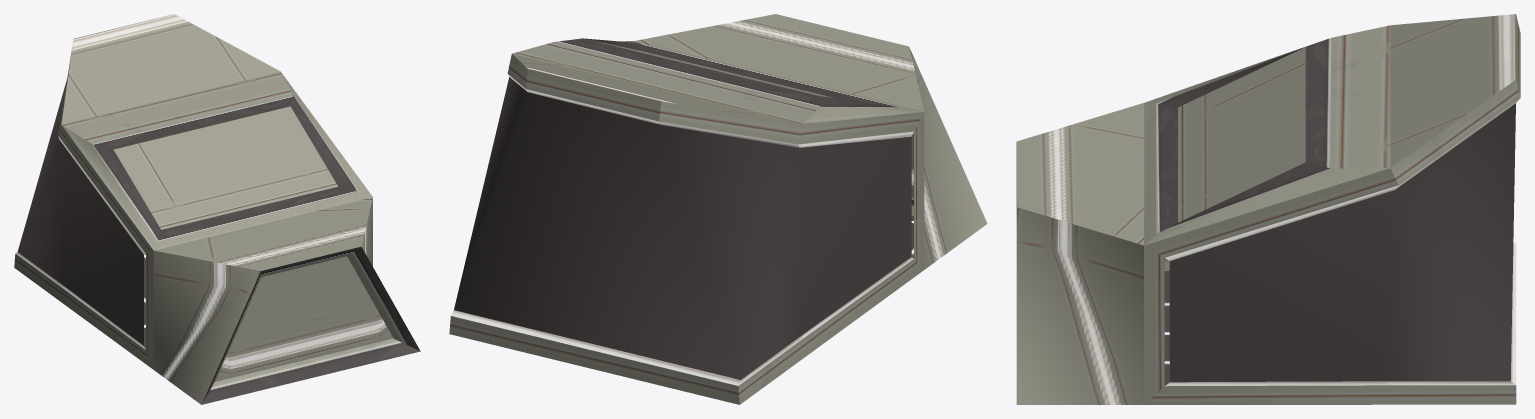
The model's file is KF_SM_XBuilding003.fbx.
The picture shows the model from 3 angles, left to right: view 1: azimuth 30°, elevation 25°; view 2: azimuth 150°, elevation 25°; view 3: azimuth 270°, elevation 25°; orthographic projection. The views are drawn at different scales.
Parts seen in each view (by area): view 1: KF_SM_XBuilding003; view 2: KF_SM_XBuilding003; view 3: KF_SM_XBuilding003.
Boxes of the visible parts, box(x1,y1,x2,y2) form: KF_SM_XBuilding003: box(14, 14, 420, 404); KF_SM_XBuilding003: box(449, 14, 987, 404); KF_SM_XBuilding003: box(1016, 14, 1520, 404).
Size of the model in its own units: 3356 by 3141 by 5002.
